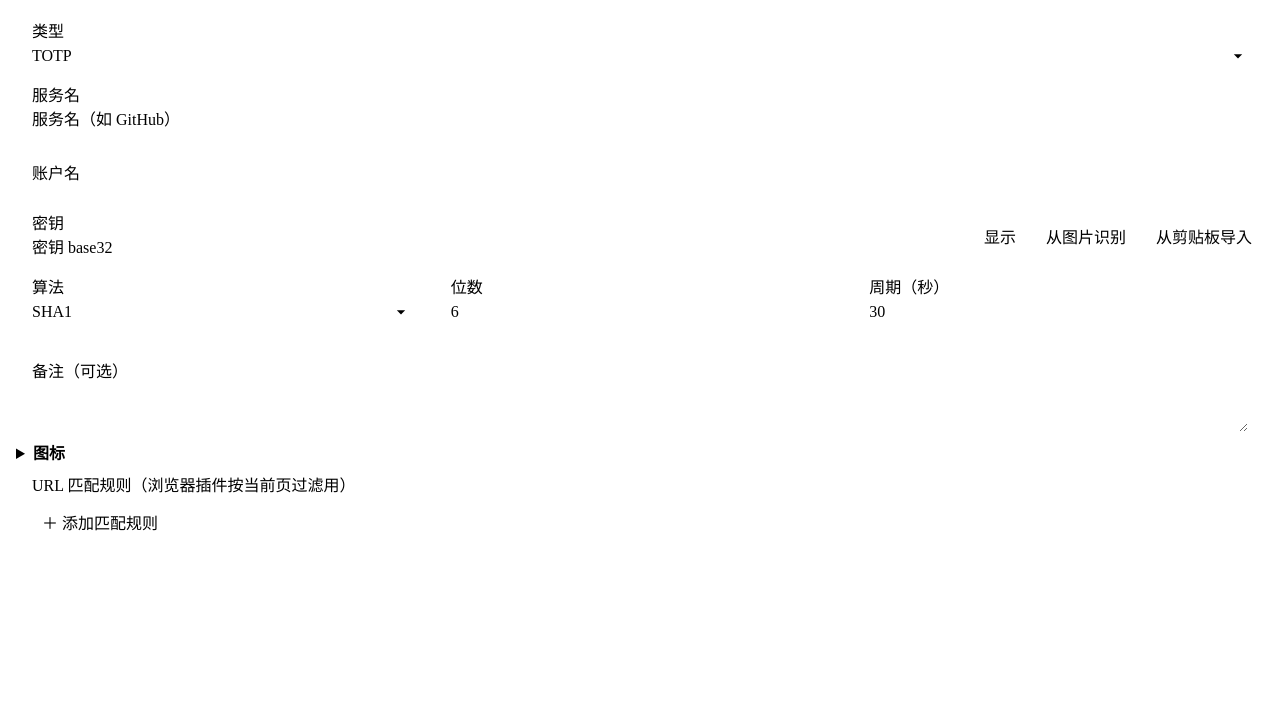
EntryForm 提交校验守卫（digits/period/counter 三向） › hotp counter 非法（负数）：counterError 阻止提交
This screenshot has width=1280, height=720.
Click the button "TOTP": (52, 56) top-left (32, 44), bottom-right (1248, 68)
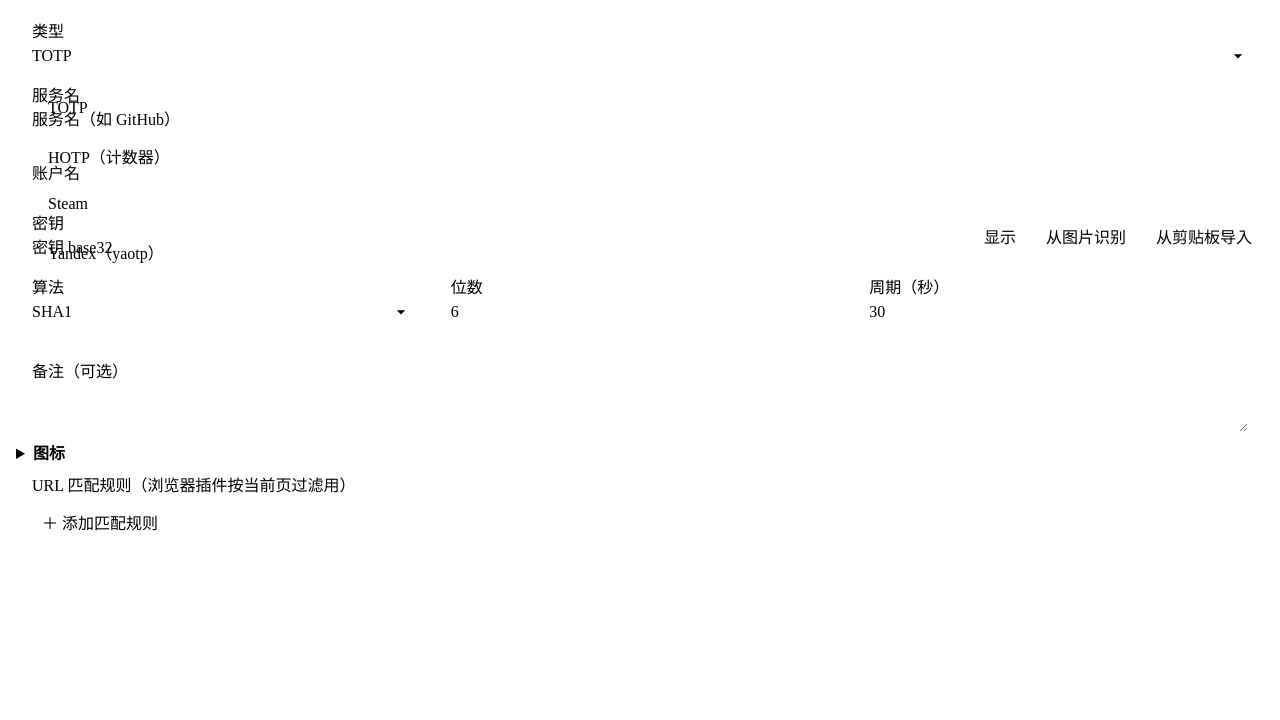
Click the option "HOTP（计数器）": (109, 158) top-left (48, 149), bottom-right (170, 166)
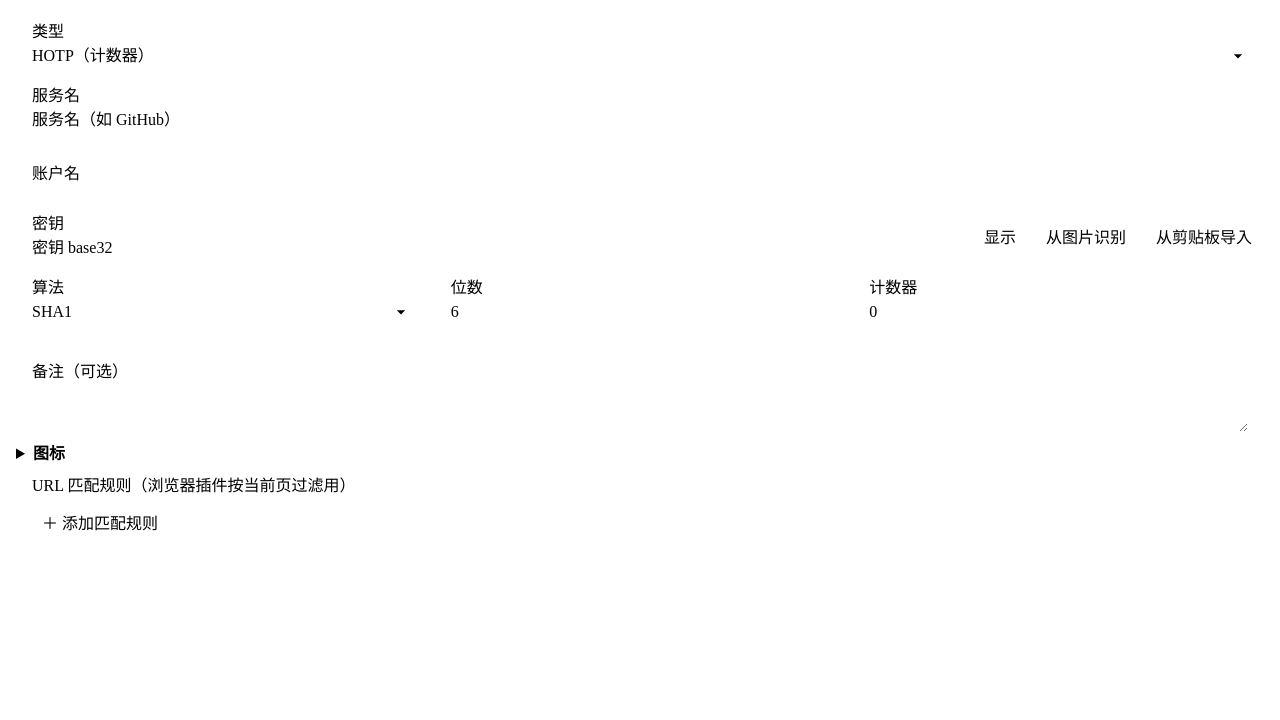
Result: the element with class "counter" is shown at top-left (853, 272), bottom-right (1264, 328)
Replace the text in the number field labelled "计数器" with "-1": (1059, 312) top-left (869, 300), bottom-right (1248, 324)
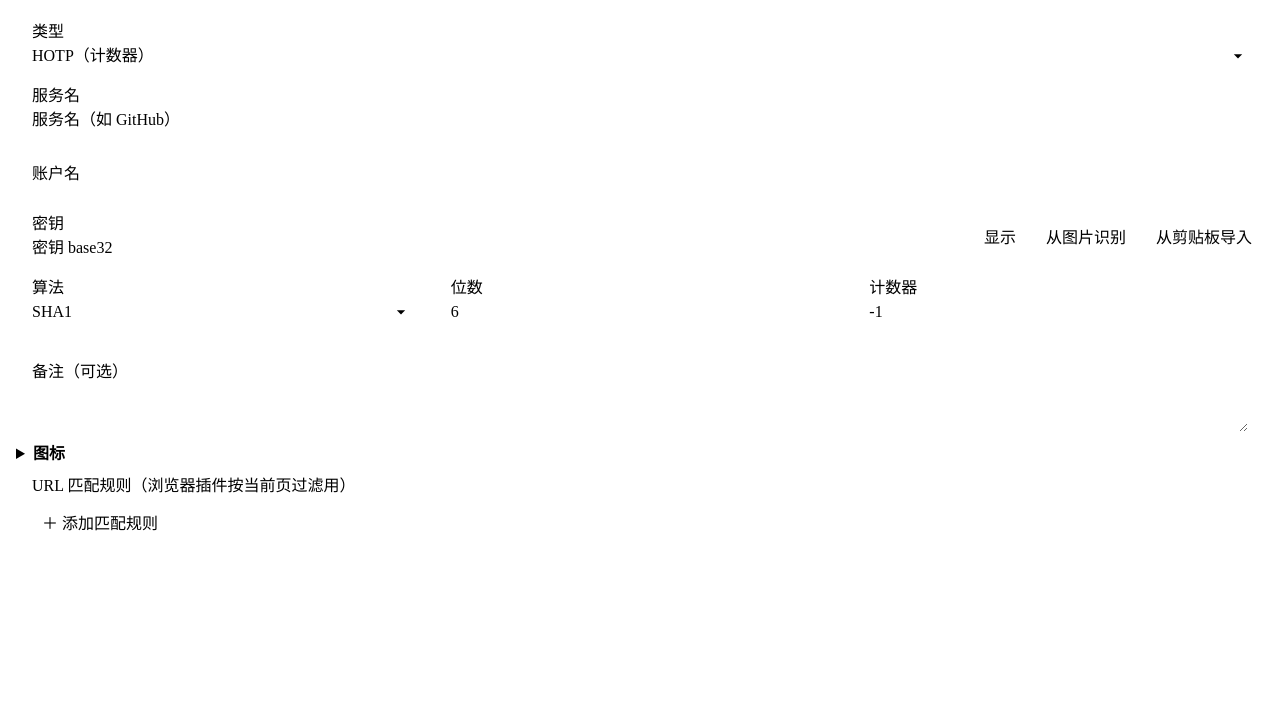
Submit the form
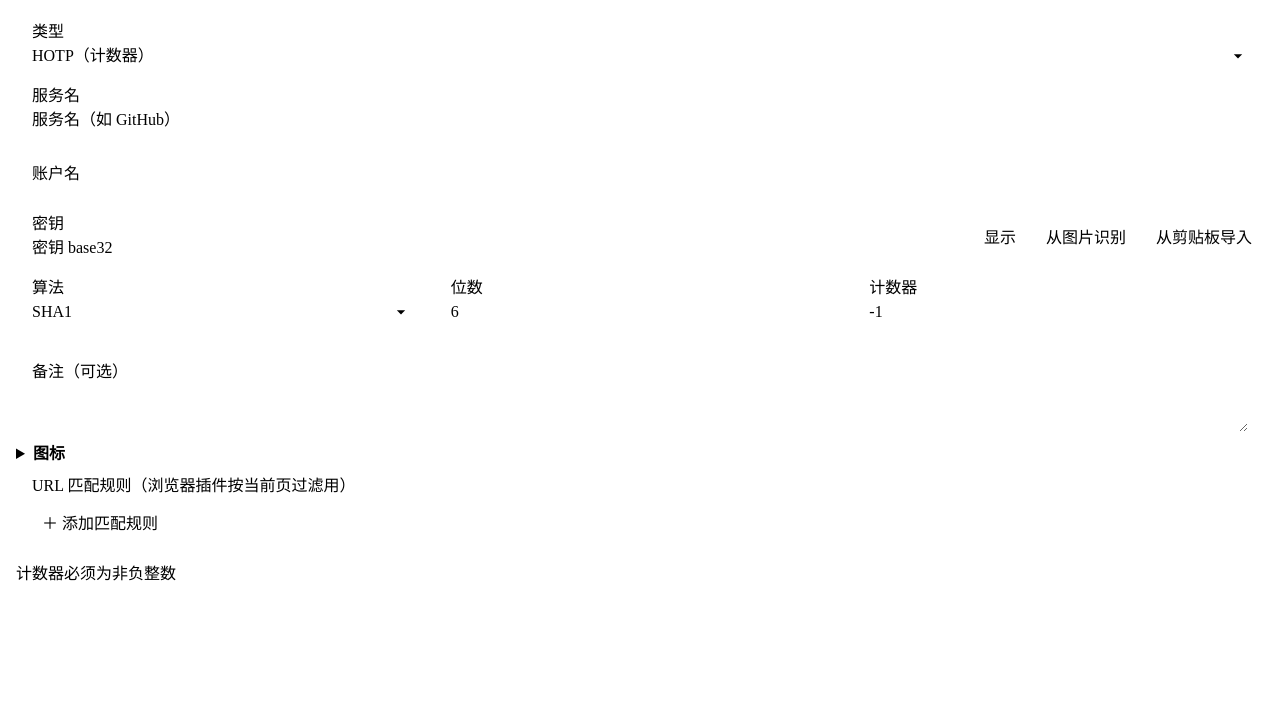
Result: the form shows "计数器必须为非负整数" at top-left (16, 565), bottom-right (176, 582)
